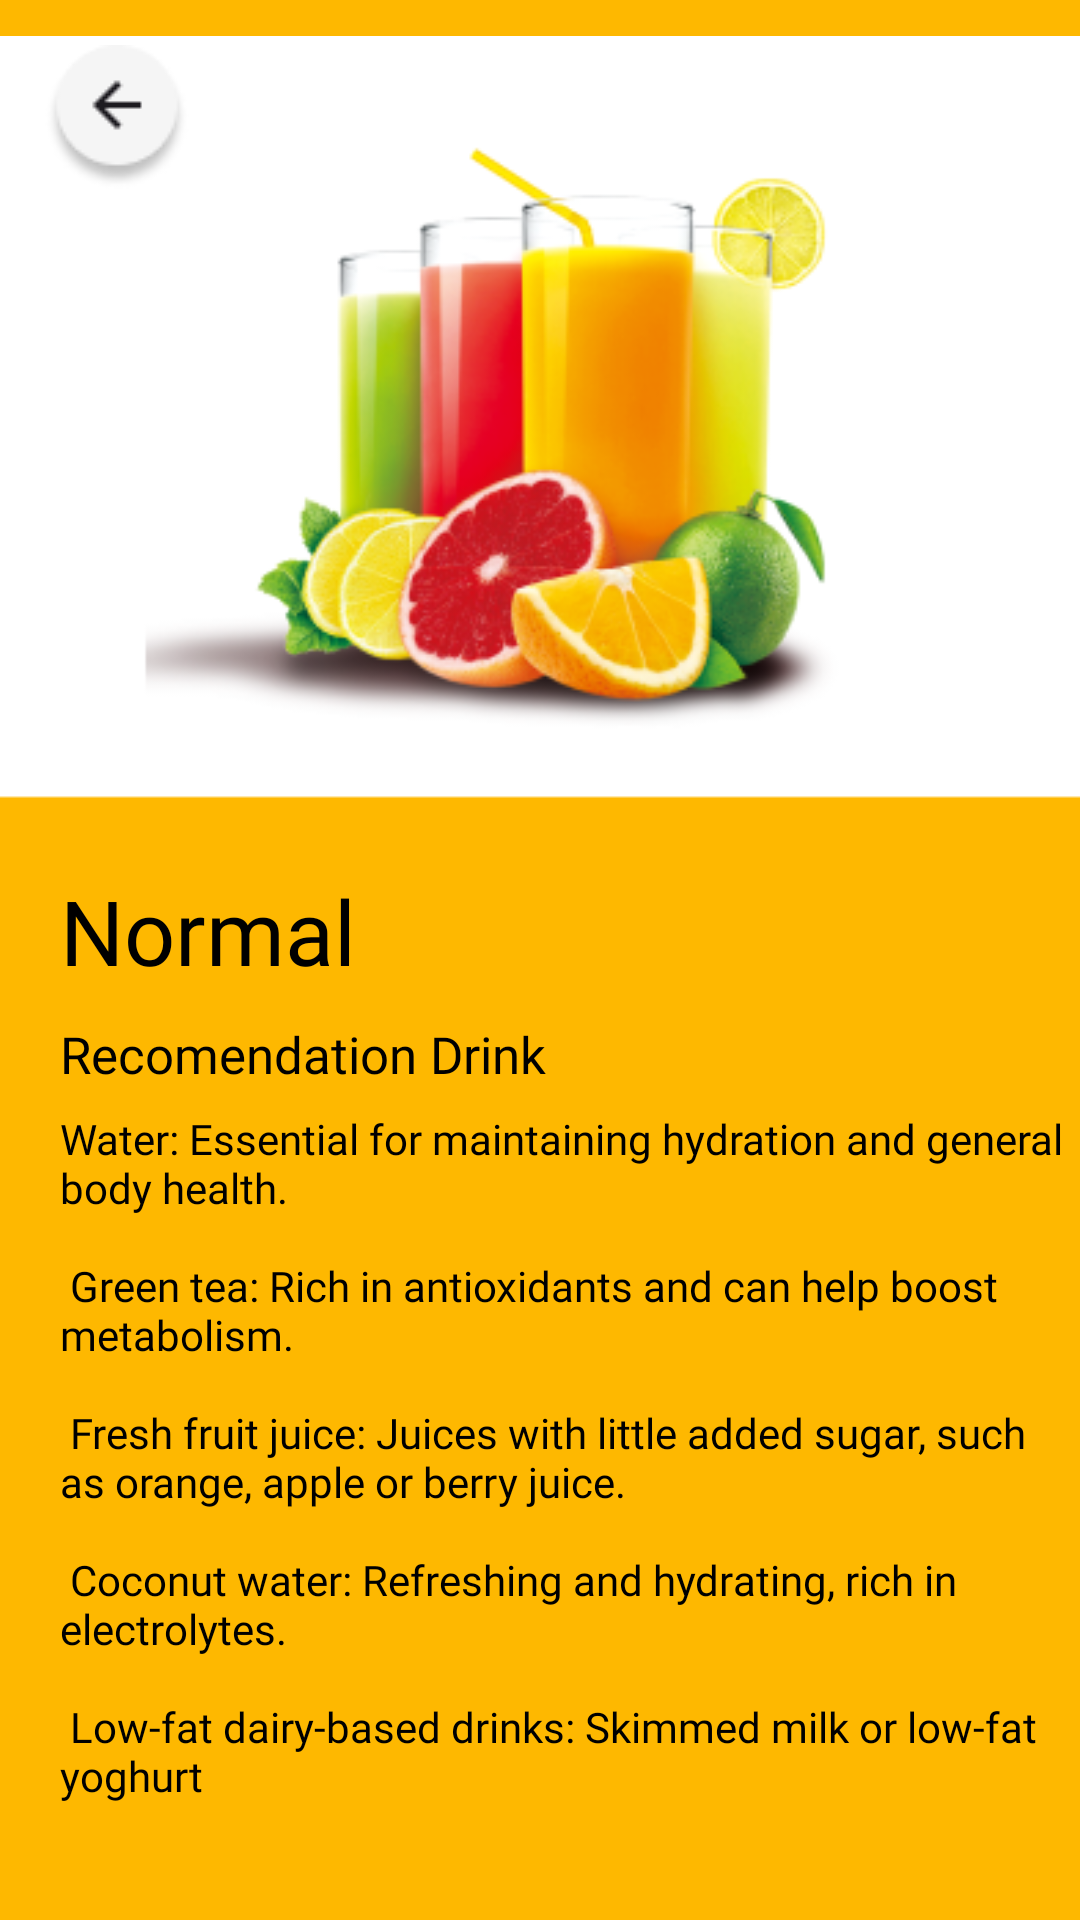

Icons on this 1080px×1920px Android screen, each with the point to tap as [x,y]:
back: [117,114]
